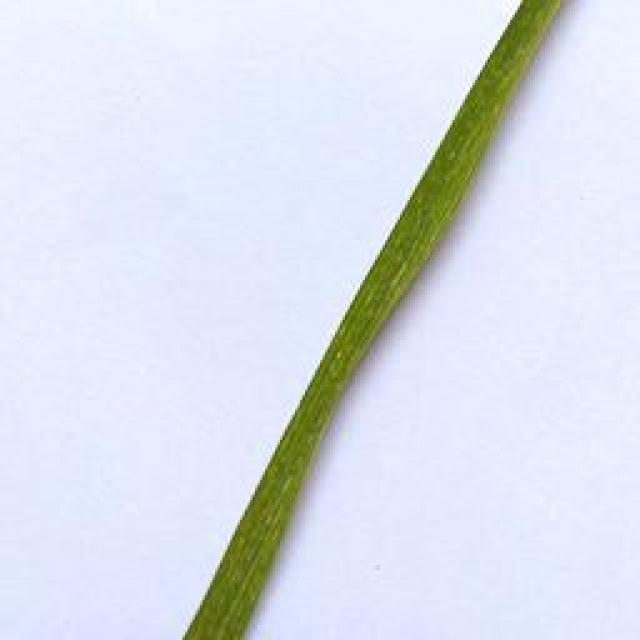Healthy-Plant: (183, 0, 565, 640)
